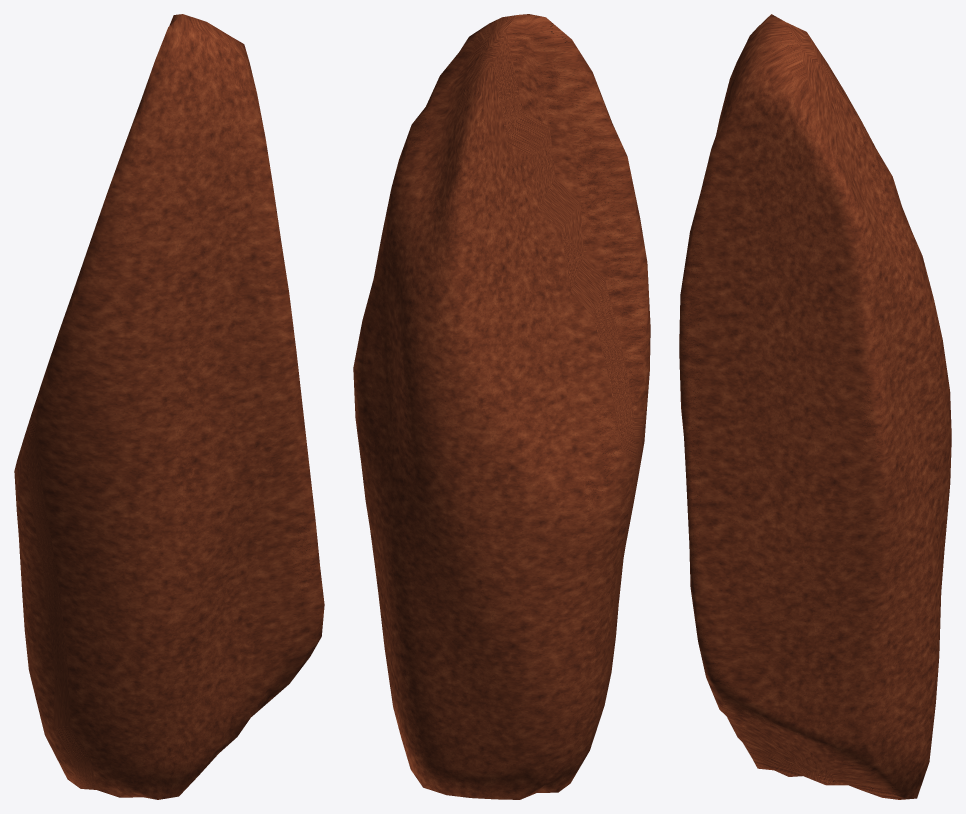
Rendered from obstacle_mid_5.dae.
3 renders of one model, left to right at view 1: azimuth 30°, elevation 25°; view 2: azimuth 150°, elevation 25°; view 3: azimuth 270°, elevation 25°, orthographic. The views are drawn at different scales.
Visible parts, largest first — view 1: obstacle_mid_5; view 2: obstacle_mid_5; view 3: obstacle_mid_5.
Boxes of the visible parts, <box> form: obstacle_mid_5: <box>14,14,324,799</box>; obstacle_mid_5: <box>353,14,650,799</box>; obstacle_mid_5: <box>679,14,951,799</box>.
Bounding box in the file's own units: 1 × 0.9061 × 2.79.
1 material, 1 textured.
